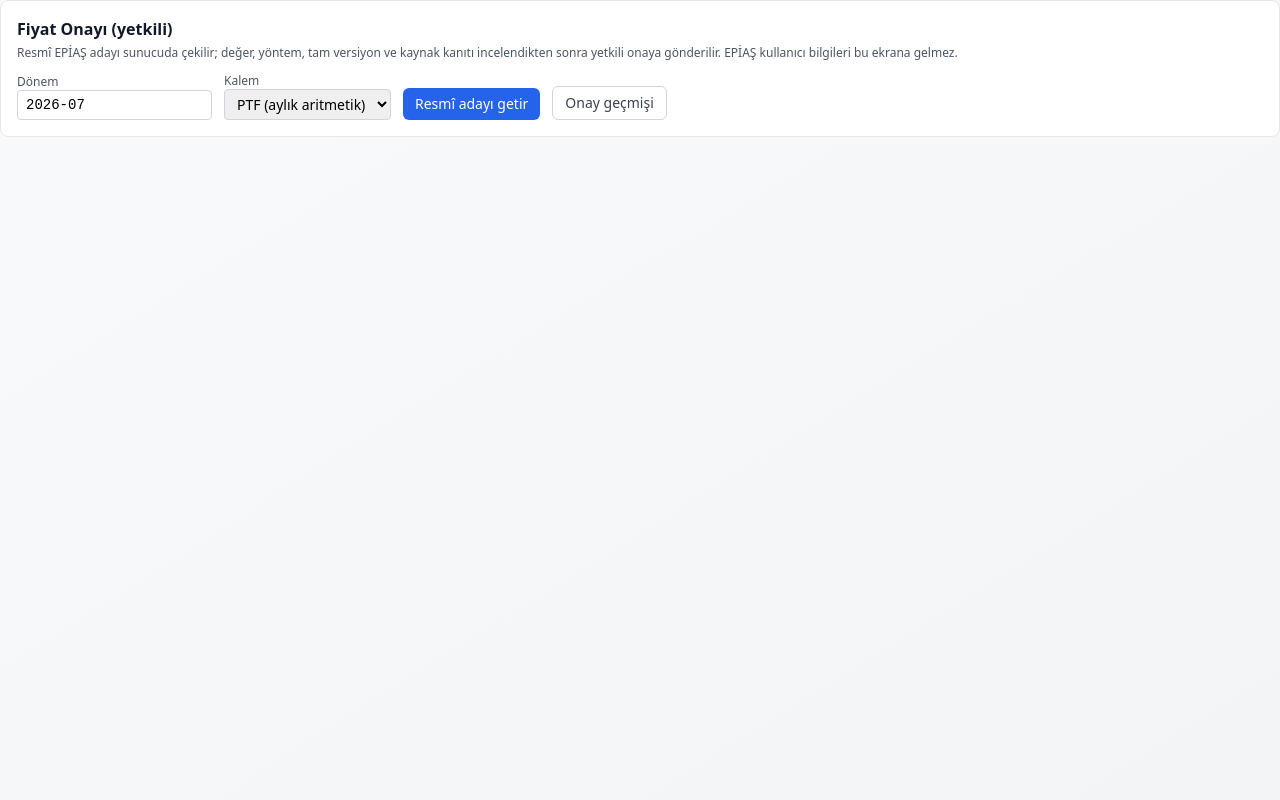
Test: FiyatOnayPaneli — kullanıcı akışı › YEKDEM: segment seçilmeden aday istenemez; TAM versiyon ve gerçek 0 gösterilir; takip yalnız bilgi
The image size is (1280, 800).
Select "YEKDEM" in the dropdown named "Onay kalemi" at (308, 104), box x1=224 y1=89 x2=391 y2=120
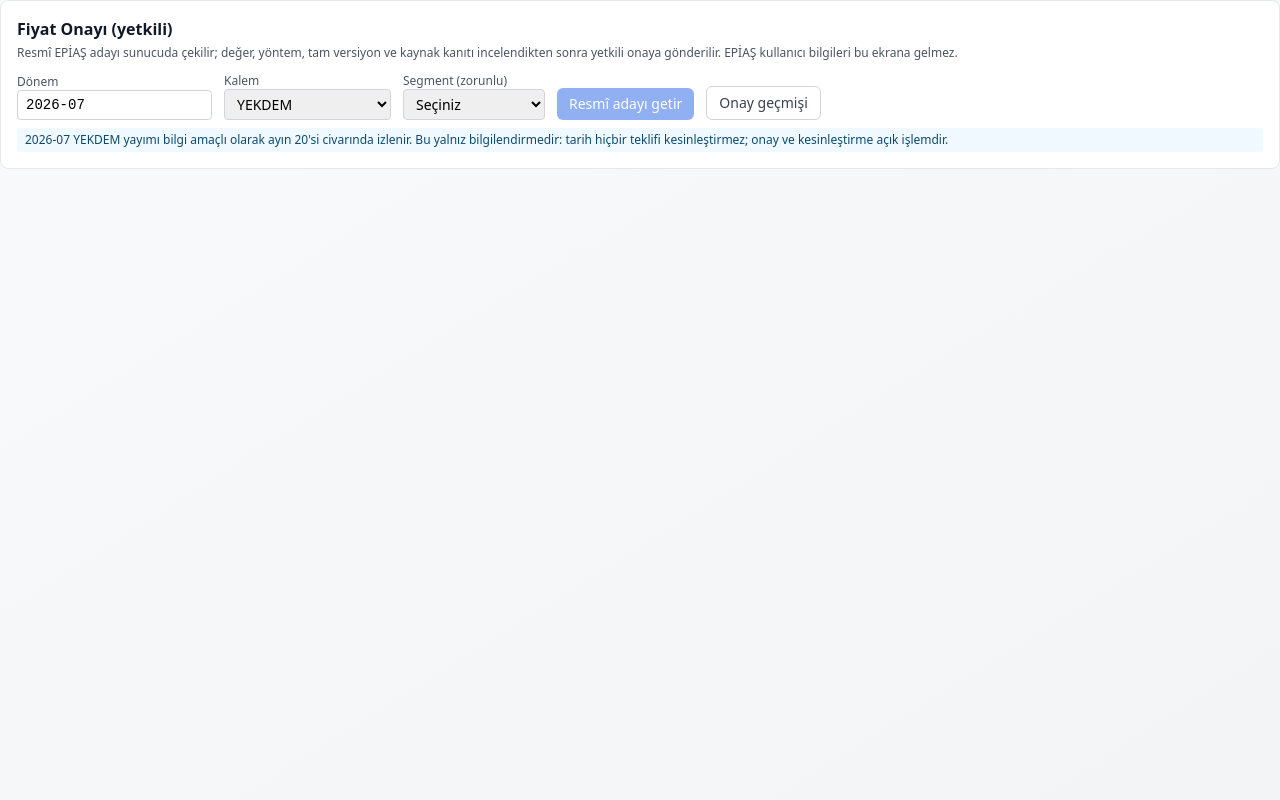
Now the button "Resmî adayı getir" is disabled, box x1=557 y1=88 x2=694 y2=120
Now the text with test id "yekdem-takip-notu" shows "yalnız bilgilendirmedir", box x1=25 y1=131 x2=948 y2=148
Select "GTŞ-K1" in the dropdown named "Onay segmenti" at (474, 104), box x1=403 y1=89 x2=545 y2=120
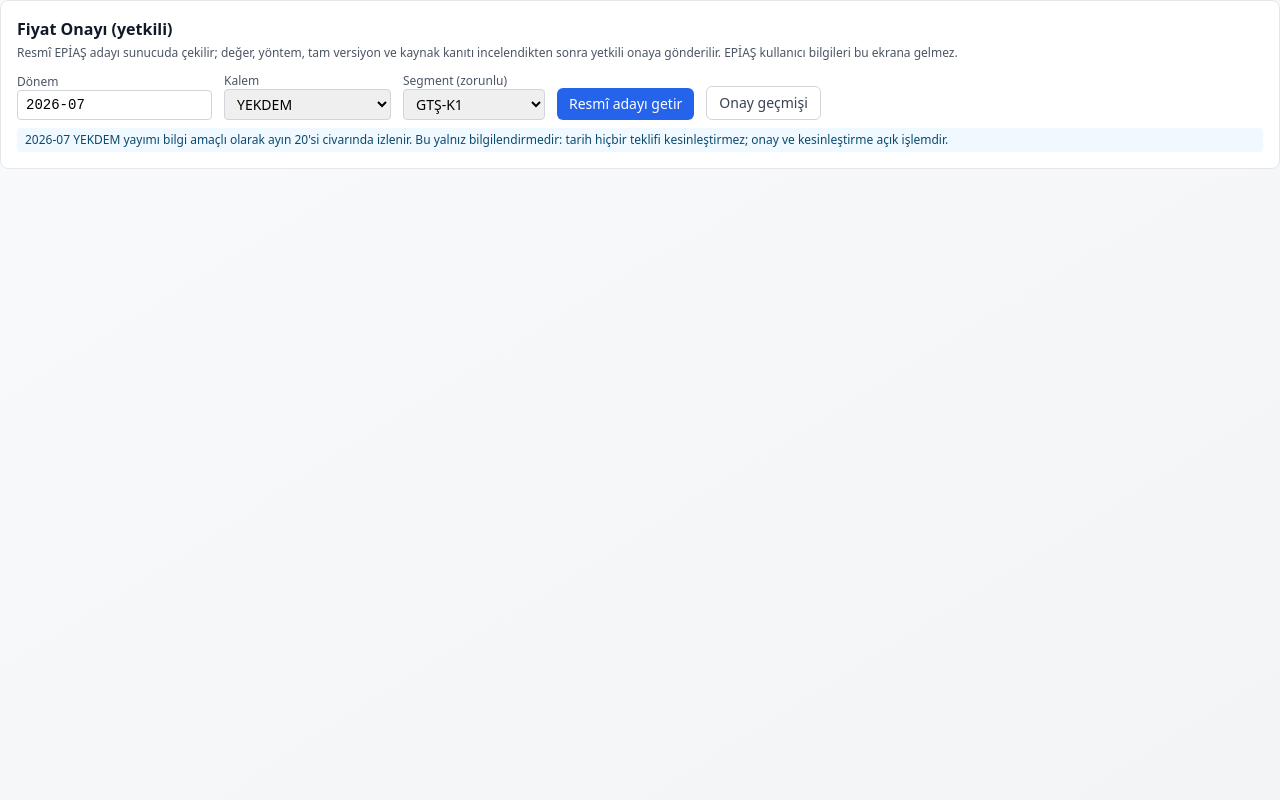
Click the button "Resmî adayı getir" at (626, 104), box x1=557 y1=88 x2=694 y2=120
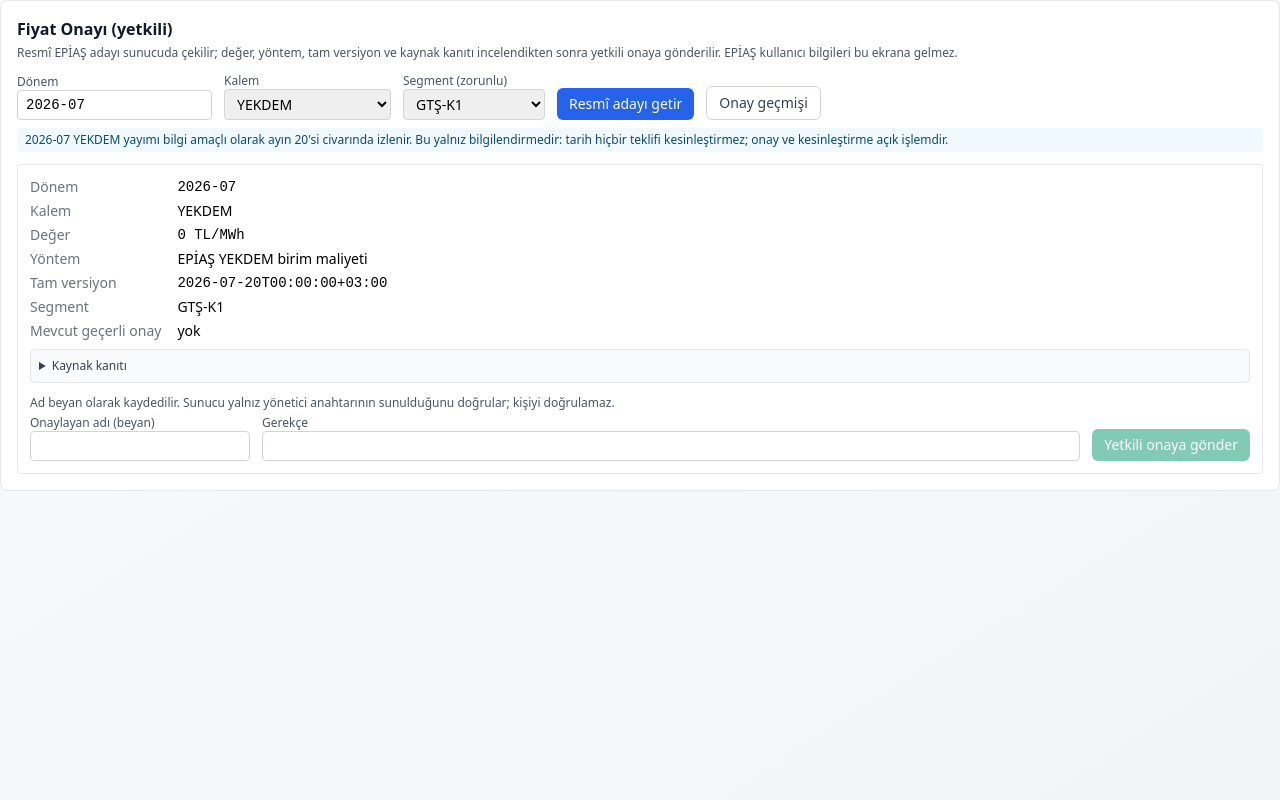
Now the text with test id "aday-versiyonu" reads "2026-07-20T00:00:00+03:00", box x1=177 y1=275 x2=387 y2=291
Now the text with test id "aday-degeri" shows "0", box x1=177 y1=227 x2=245 y2=243
Now the element with test id "onay-adayi" shows "GTŞ-K1", box x1=177 y1=297 x2=224 y2=316
